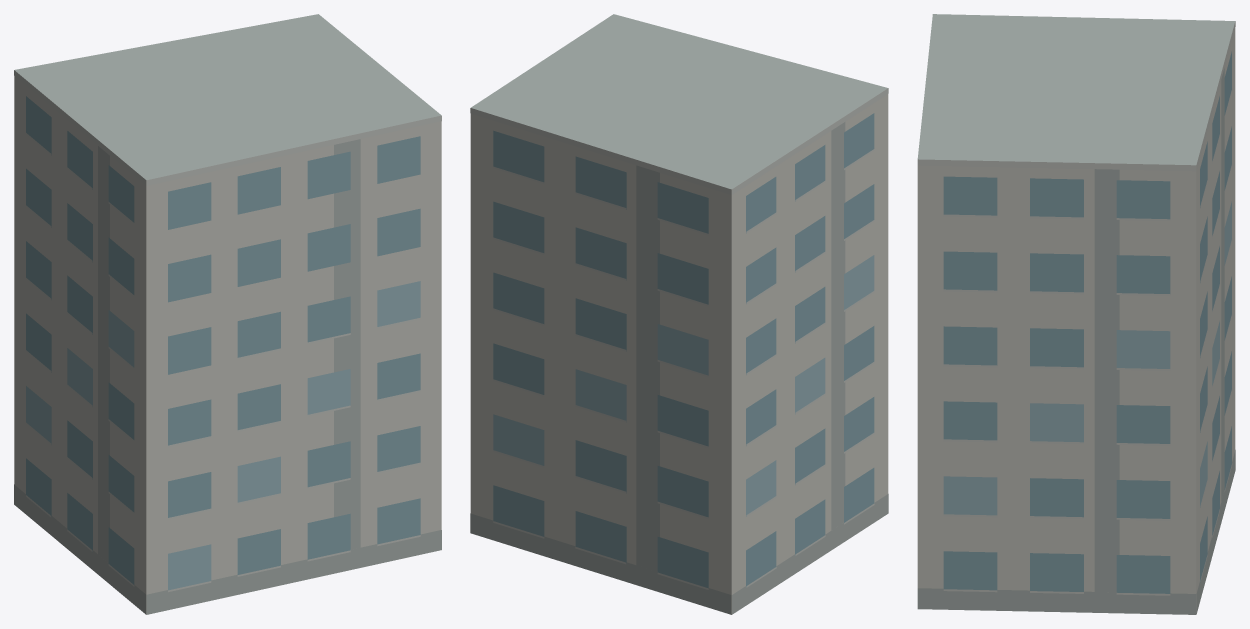
File: survey-upis-32565320.glb
The picture shows the model from 3 angles, left to right: view 1: azimuth 30°, elevation 25°; view 2: azimuth 150°, elevation 25°; view 3: azimuth 270°, elevation 25°; orthographic projection. The views are drawn at different scales.
Parts seen in each view (by area): view 1: survey-upis-32565320.tmp; view 2: survey-upis-32565320.tmp; view 3: survey-upis-32565320.tmp.
Boxes of the visible parts, x1,y1,x2,y2 form: survey-upis-32565320.tmp: (14,14,441,614); survey-upis-32565320.tmp: (470,14,888,614); survey-upis-32565320.tmp: (917,14,1235,614).
Size of the model in its own units: 13.21 by 18.3 by 11.73.
